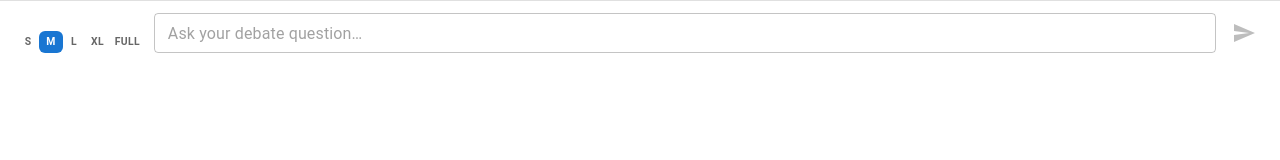
DebateComposer – rendering › send button is enabled when input has text
The width and height of the screenshot is (1280, 160).
Type "hello" into the text box labelled "debate question". click: (685, 33)
box: x1=168 y1=22 x2=1202 y2=44
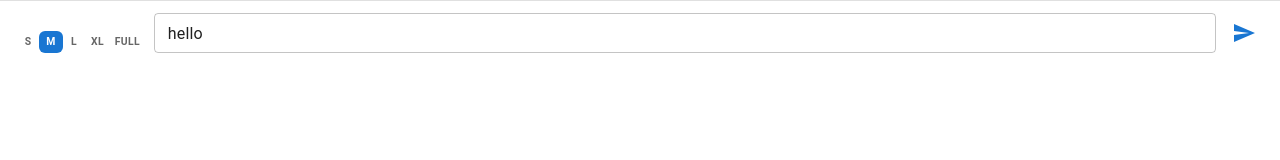
Now the button named "Send debate question" is enabled, box x1=1224 y1=13 x2=1264 y2=53
